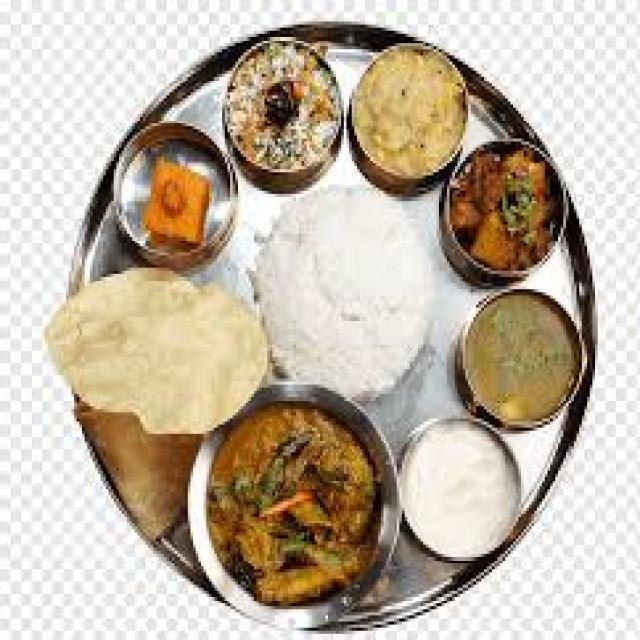dal: (397, 417, 533, 566), (346, 39, 468, 194)
papad: (41, 266, 271, 426)
pickle: (121, 144, 224, 266)
rice: (261, 191, 435, 398)
sweet: (118, 142, 230, 269)
veg-fry: (191, 393, 396, 612), (436, 134, 569, 294), (222, 39, 344, 192)
